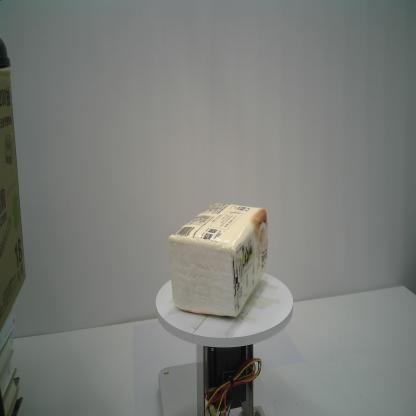Tissue: (166, 201, 269, 320)
